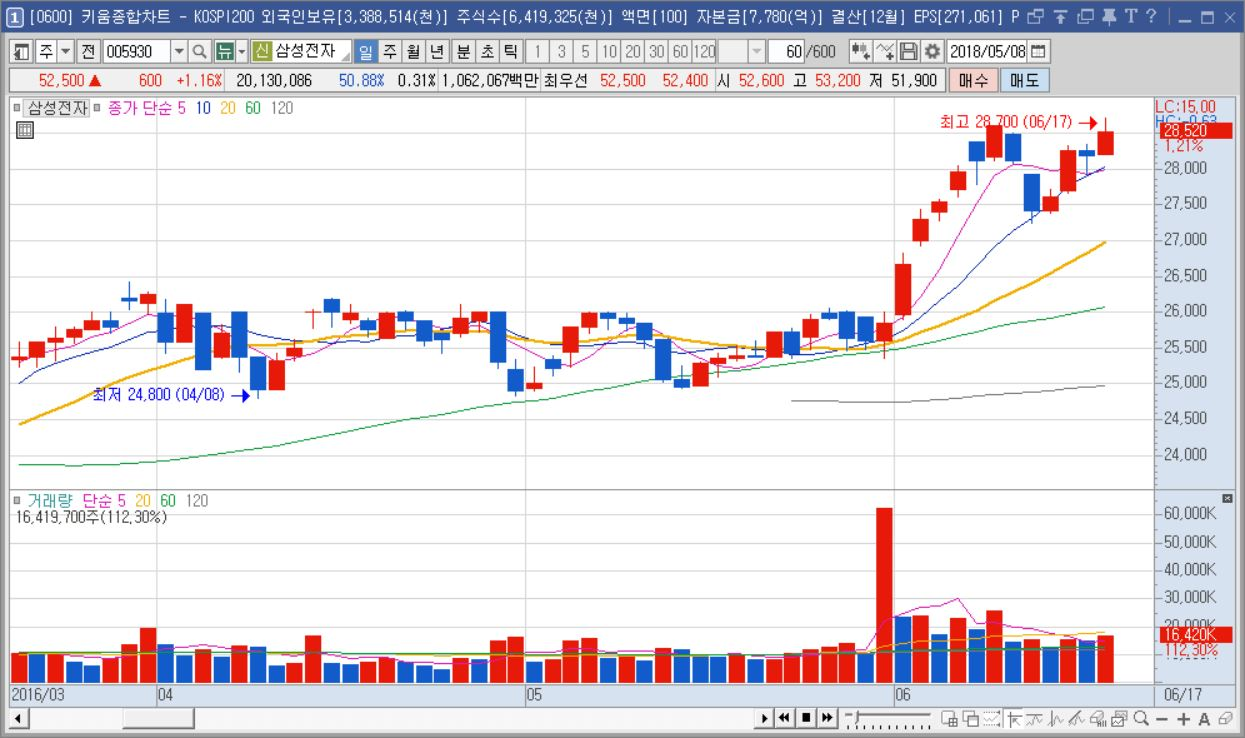up: (875, 111, 1115, 681)
